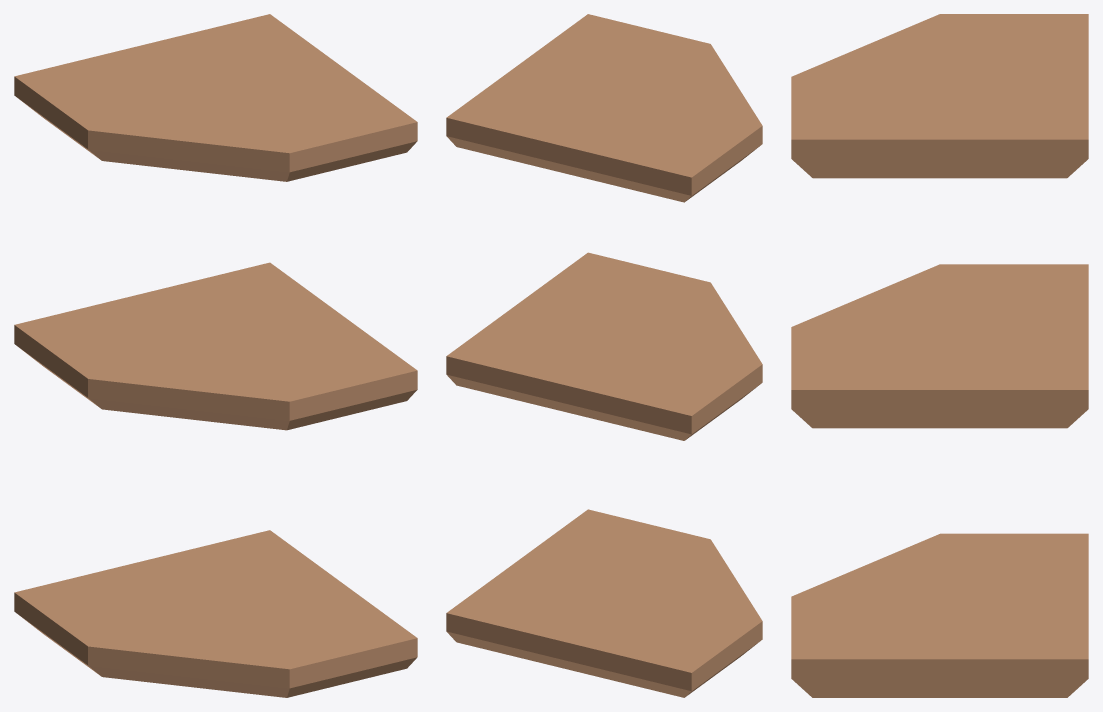
Rendered from Kitchen_Cabinet_Side_Shelves.obj.
3 views of the same model, side by side, from view 1: azimuth 30°, elevation 25°; view 2: azimuth 150°, elevation 25°; view 3: azimuth 270°, elevation 25° (orthographic). The views are drawn at different scales.
Parts seen in each view (by area): view 1: object2, object1, object3; view 2: object1, object2, object3; view 3: object1, object2, object3.
Part boxes in pixels (x1,y1,x2,y2): object2: (14,262,417,430); object1: (14,14,417,181); object3: (14,530,417,697); object1: (446,14,762,202); object2: (446,252,762,440); object3: (446,509,762,697); object1: (791,14,1088,178); object2: (791,264,1088,428); object3: (791,533,1088,697).
Size of the model in its own units: 0.35 by 0.725 by 0.35.
